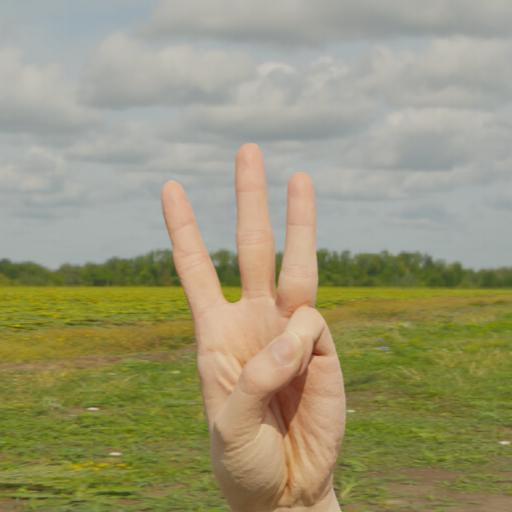W: (134, 130, 368, 512)
